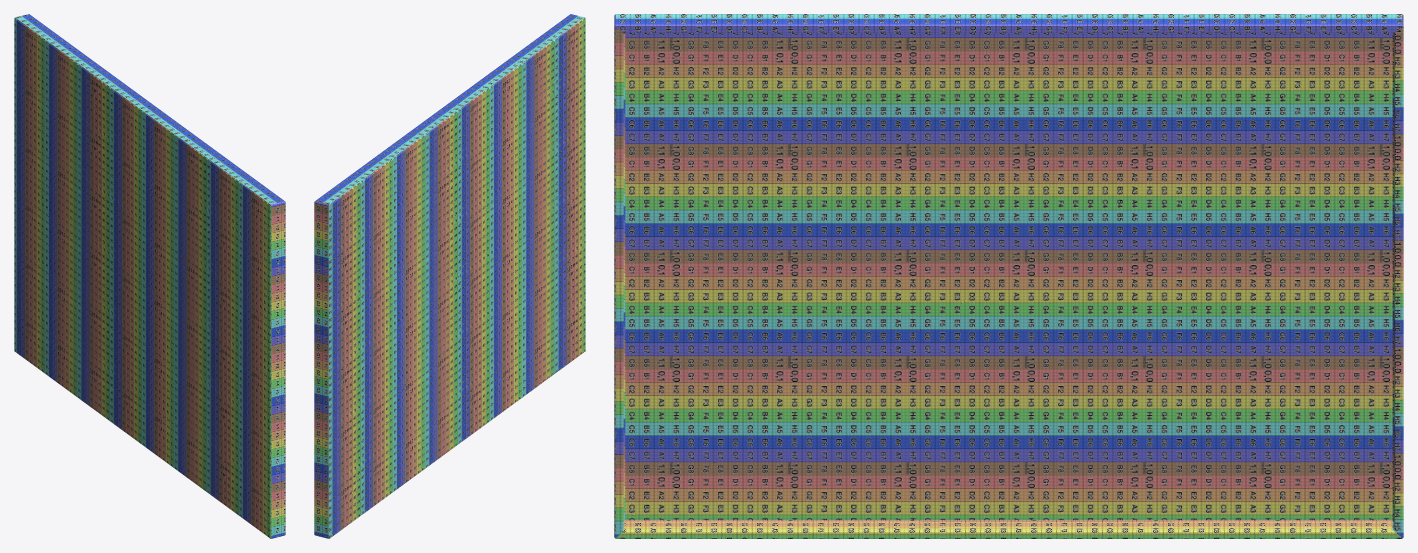
The model's file is Toile.fbx.
3 renders of one model, left to right at view 1: azimuth 30°, elevation 25°; view 2: azimuth 150°, elevation 25°; view 3: azimuth 270°, elevation 25°, orthographic. The views are drawn at different scales.
Parts seen in each view (by area): view 1: Toile; view 2: Toile; view 3: Toile.
Part boxes in pixels (x1=…): Toile: x1=14, y1=14, x2=285, y2=538; Toile: x1=314, y1=14, x2=585, y2=538; Toile: x1=614, y1=14, x2=1403, y2=538.
Bounding box in the file's own units: 6.94 × 143 × 199.
Materials: 2 (2 with a texture image).
